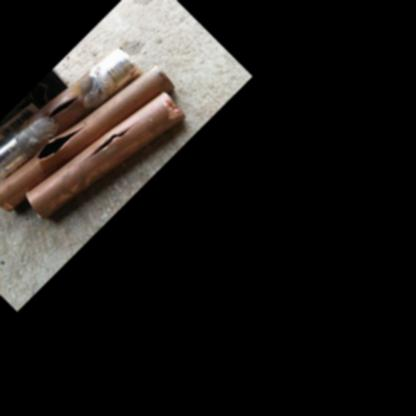burst: (92, 123, 130, 163), (33, 131, 80, 162), (46, 89, 80, 121)
